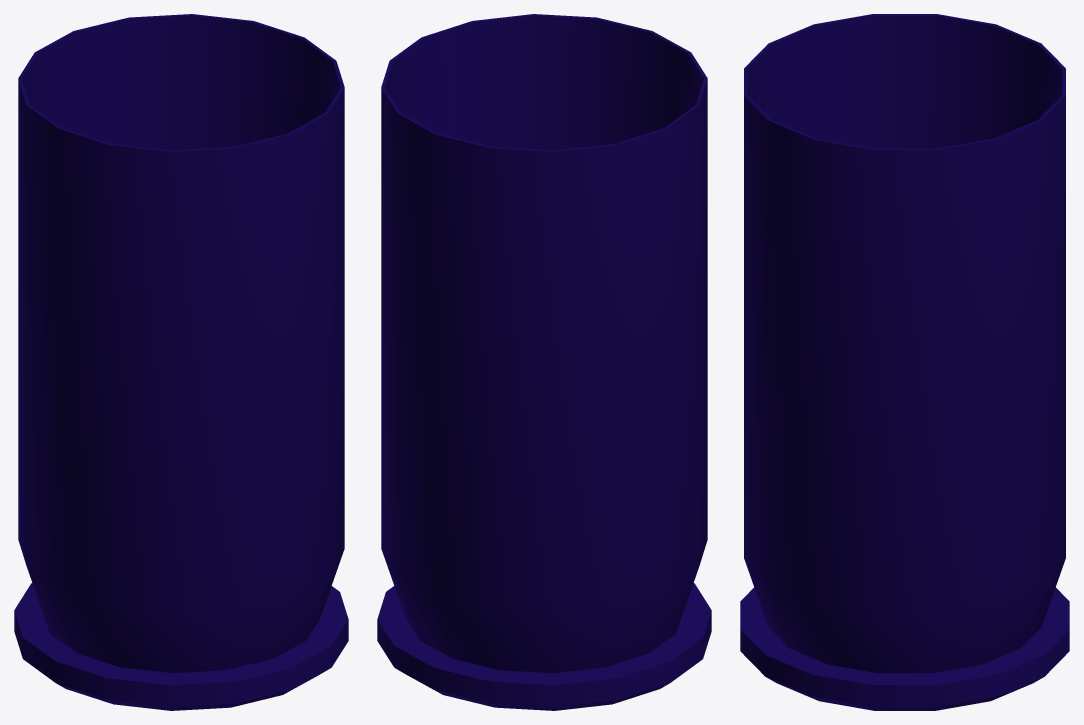
File: Shell_LOD0.FBX
The picture shows the model from 3 angles, left to right: view 1: azimuth 30°, elevation 25°; view 2: azimuth 150°, elevation 25°; view 3: azimuth 270°, elevation 25°; orthographic projection.
Parts seen in each view (by area): view 1: Shell_LOD0; view 2: Shell_LOD0; view 3: Shell_LOD0.
Boxes of the visible parts, x1,y1,x2,y2 form: Shell_LOD0: (14,14,348,710); Shell_LOD0: (377,14,711,710); Shell_LOD0: (740,14,1069,710).
Size of the model in its own units: 1.16 by 2.2 by 1.16.
